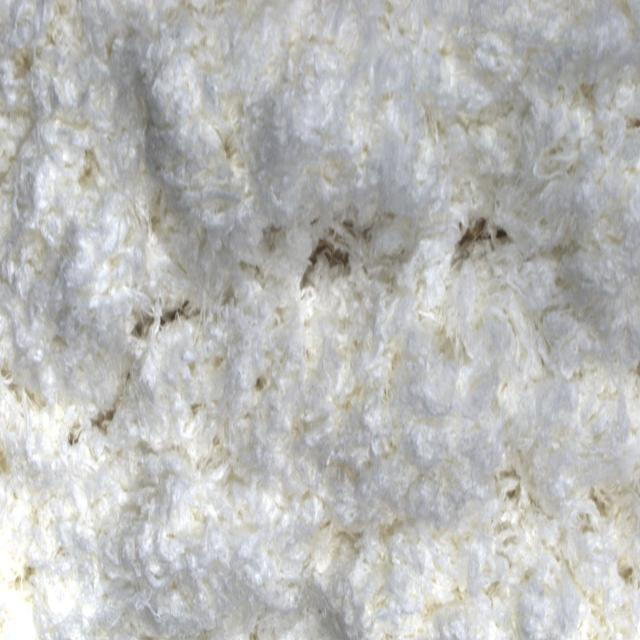dust: (459, 215, 504, 251), (313, 238, 345, 266)
